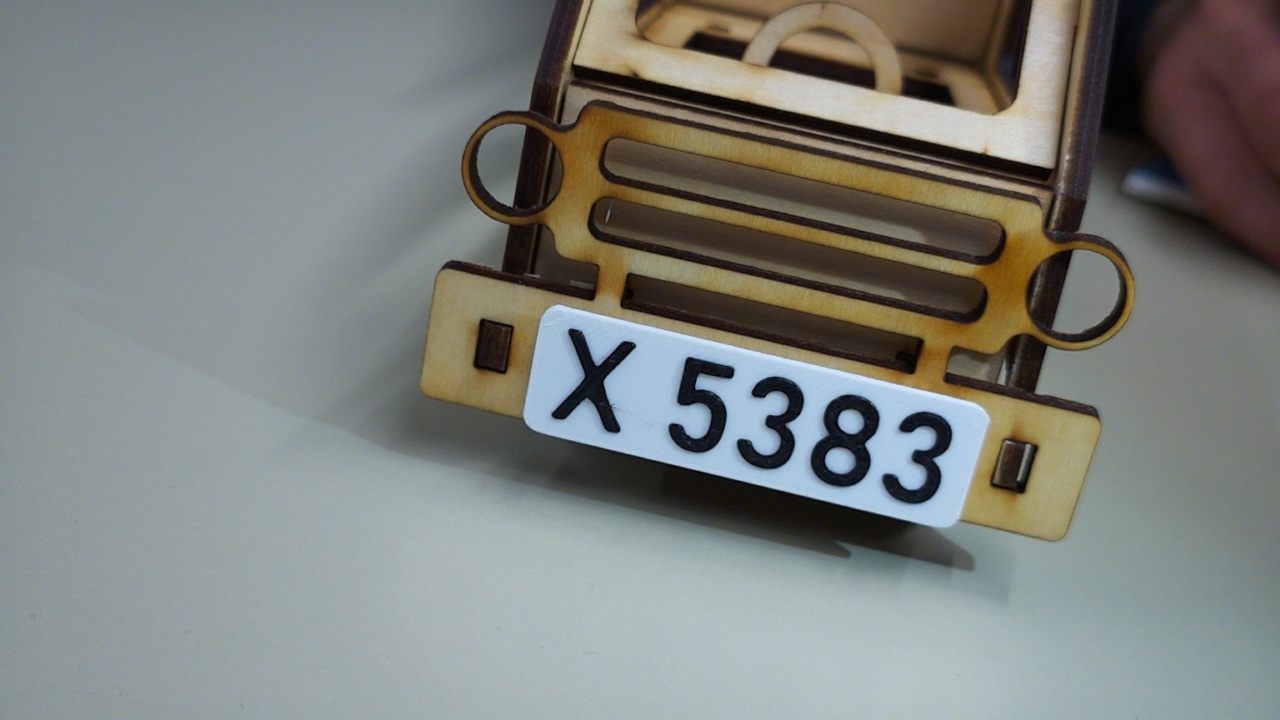license_plate: (520, 301, 994, 533)
